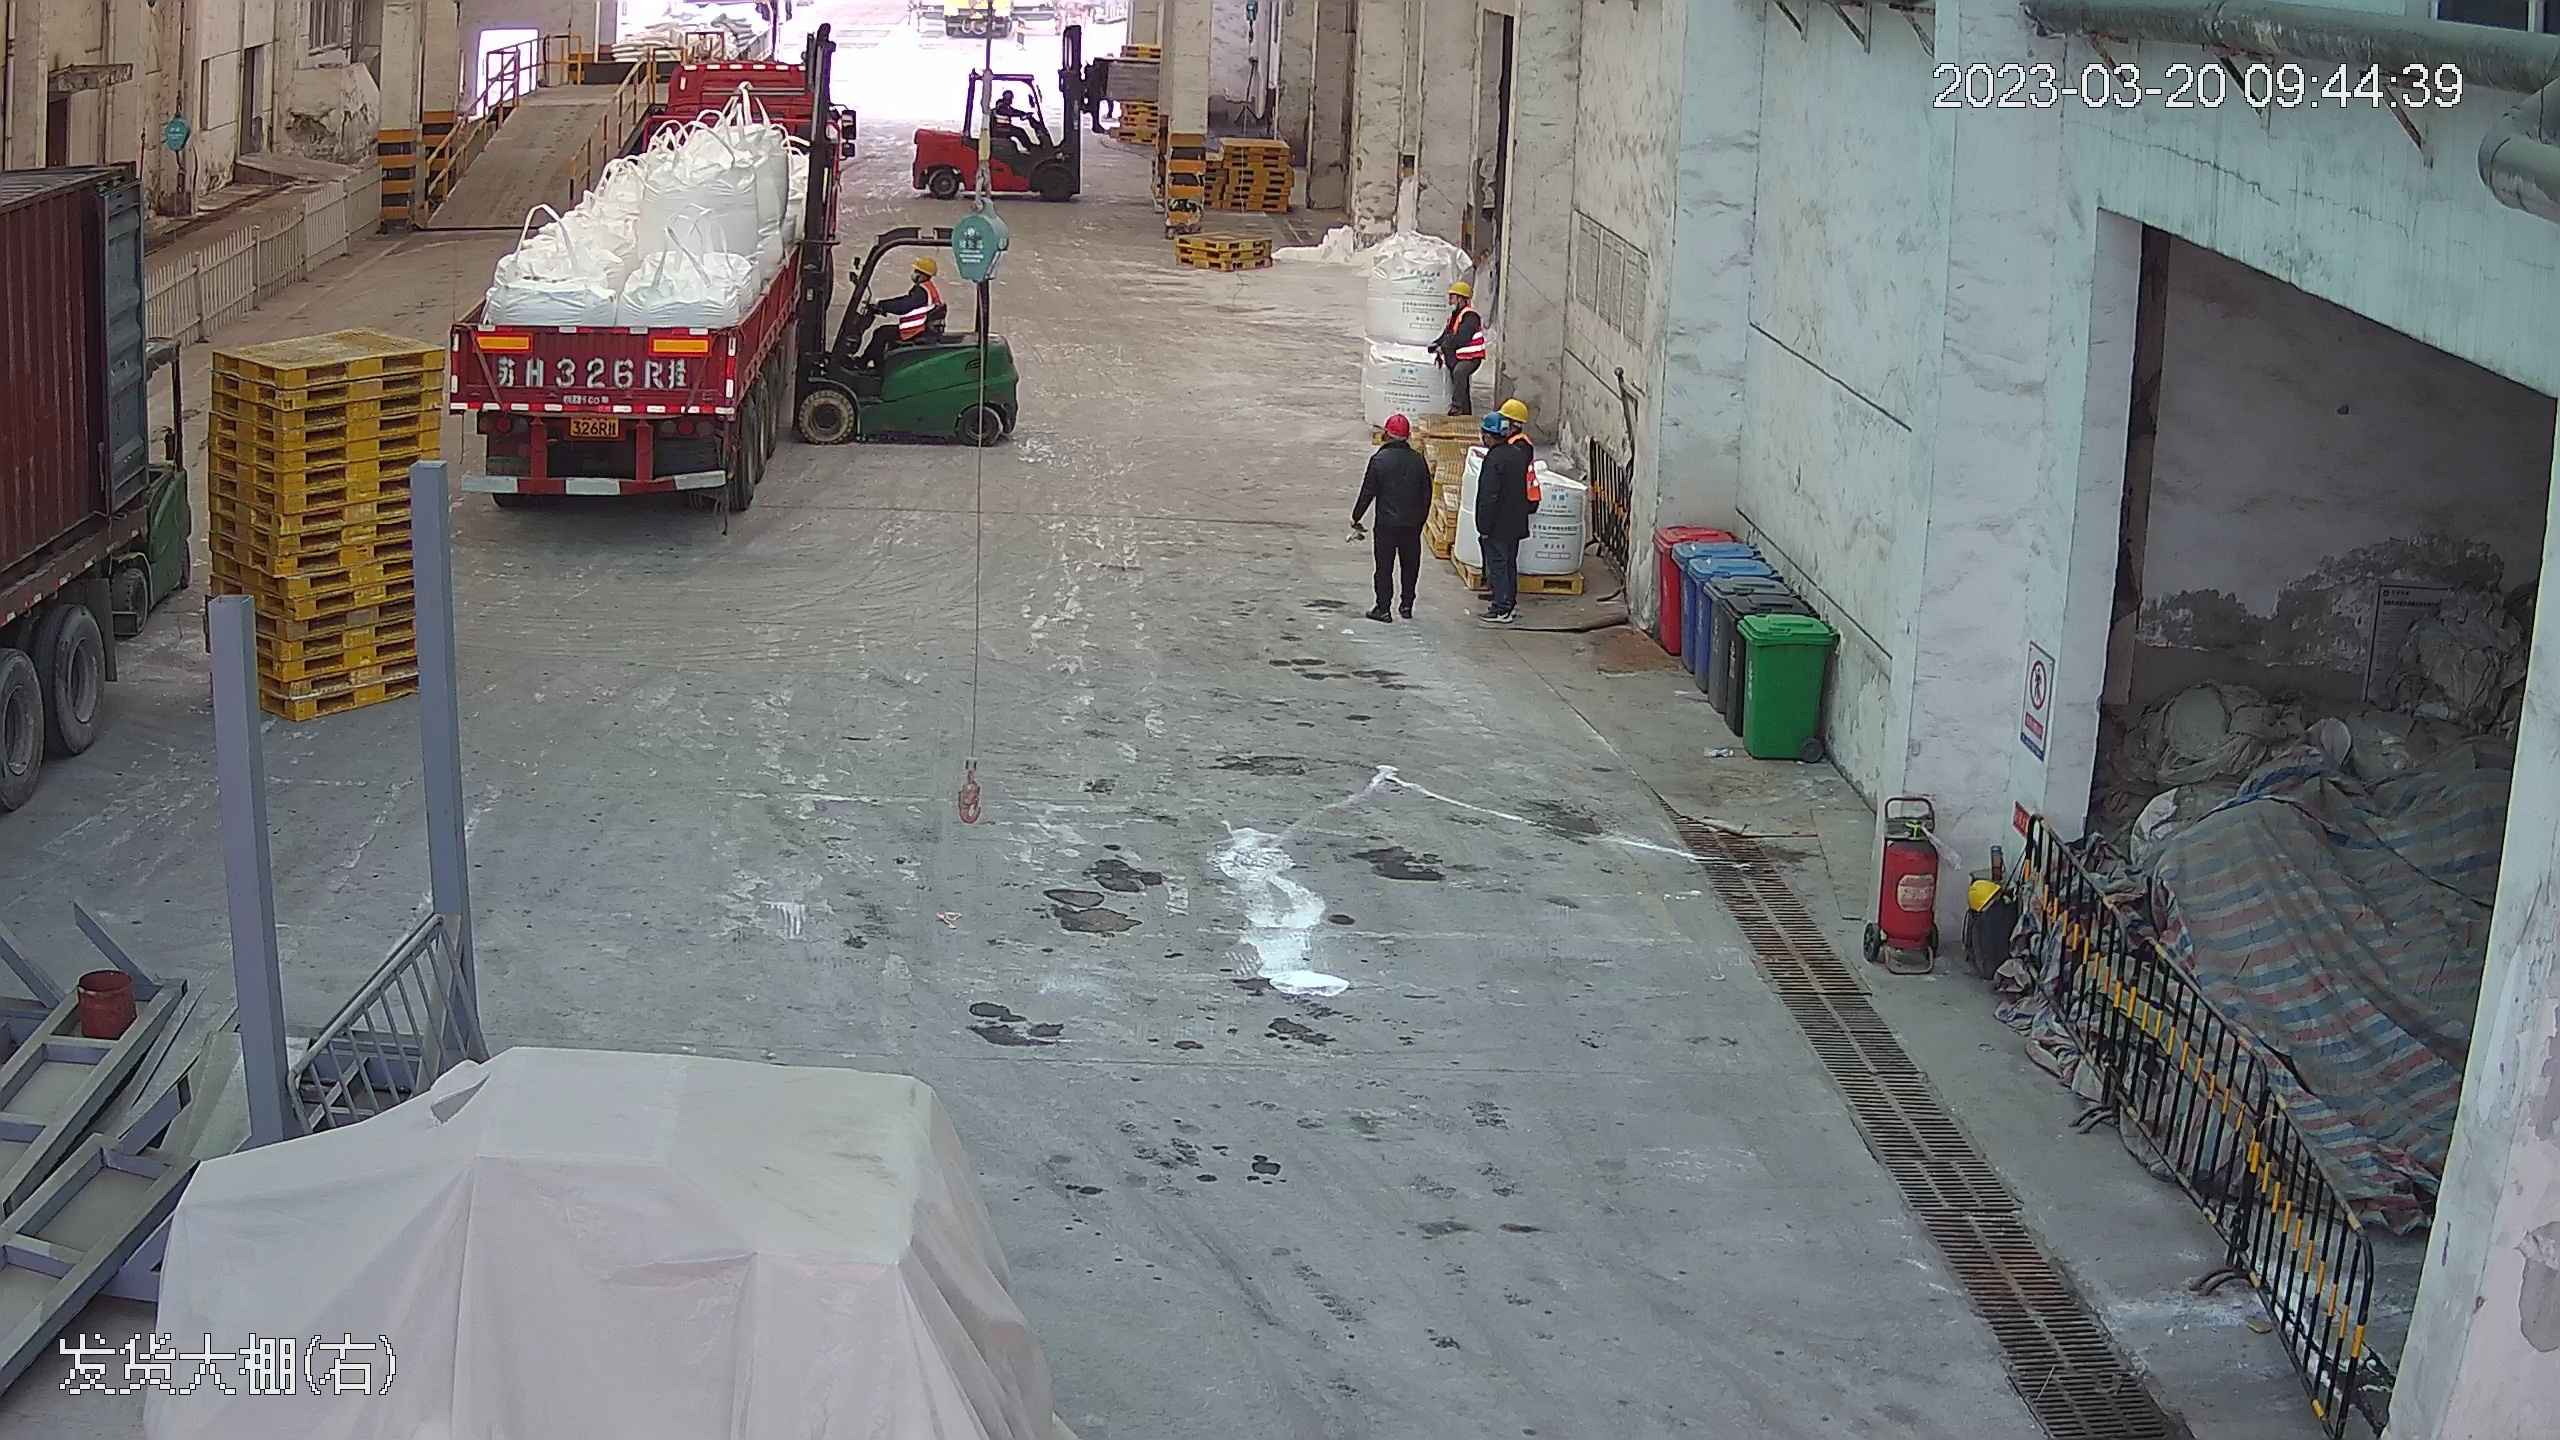head: (1464, 413, 1528, 482), (1366, 409, 1429, 477), (899, 251, 944, 312), (1440, 275, 1484, 331)
helmet: (1493, 395, 1529, 423), (1379, 410, 1413, 437), (1478, 411, 1513, 435), (910, 252, 939, 277), (1448, 275, 1473, 296)
people: (1347, 410, 1434, 627), (1468, 393, 1548, 625), (1429, 274, 1493, 436), (855, 251, 940, 367)
truck: (448, 14, 838, 520), (1, 11, 195, 876)
